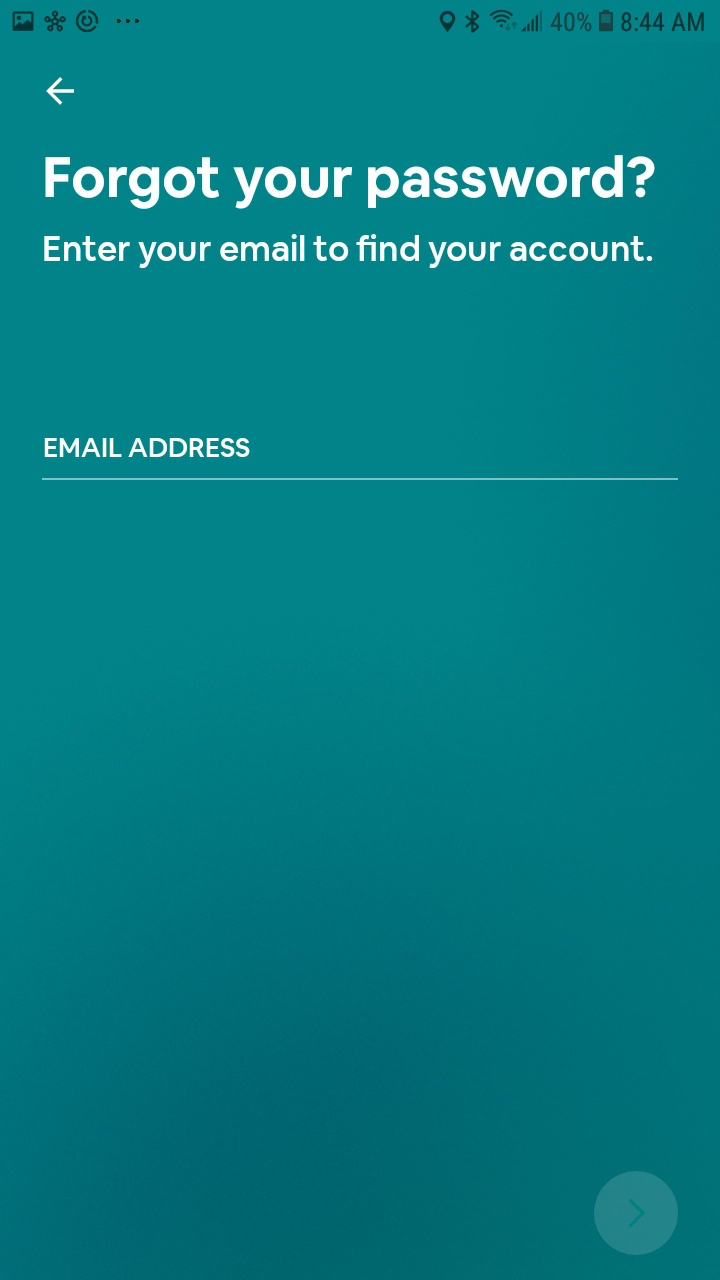EditText: (43, 437, 679, 481)
Icon: (593, 1170, 679, 1256), (46, 77, 76, 107)
Text: (45, 155, 656, 211), (44, 234, 654, 270), (45, 437, 250, 458)
UpperTaskBar: (1, 1, 720, 43)
